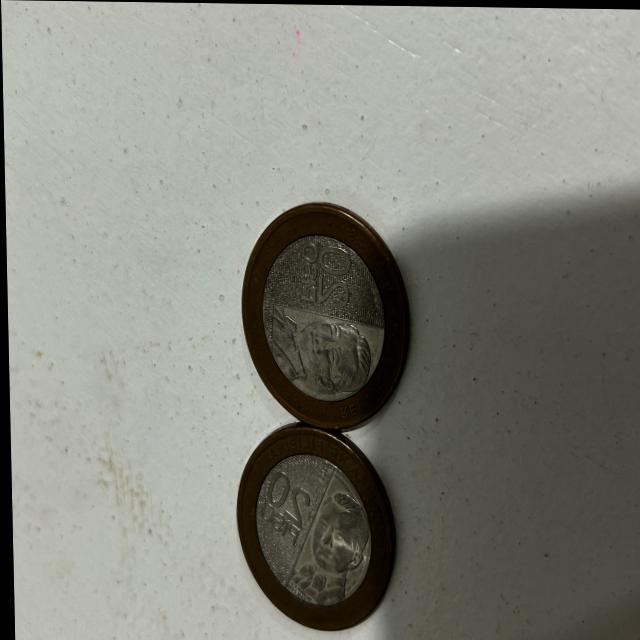20_New_Front: (290, 234, 353, 315), (255, 468, 303, 548)
